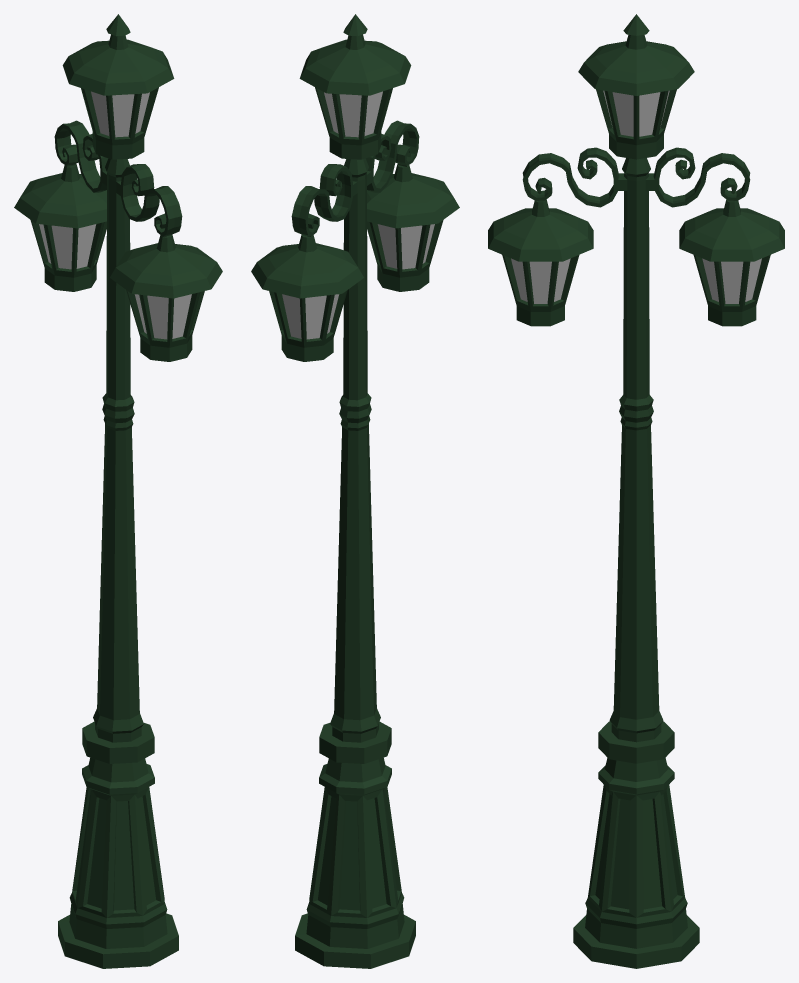
File: streetlight_triple.glb
The picture shows the model from 3 angles, left to right: view 1: azimuth 30°, elevation 25°; view 2: azimuth 150°, elevation 25°; view 3: azimuth 270°, elevation 25°; orthographic projection.
Visible parts, largest first — view 1: Streetlight_Triple_Cylinder.004; view 2: Streetlight_Triple_Cylinder.004; view 3: Streetlight_Triple_Cylinder.004.
Boxes of the visible parts, bbox=[...] form: Streetlight_Triple_Cylinder.004: bbox=[14, 14, 222, 968]; Streetlight_Triple_Cylinder.004: bbox=[251, 14, 459, 968]; Streetlight_Triple_Cylinder.004: bbox=[488, 14, 784, 968].
Bounding box in the file's own units: 0.1317 × 1.09 × 0.3157.
